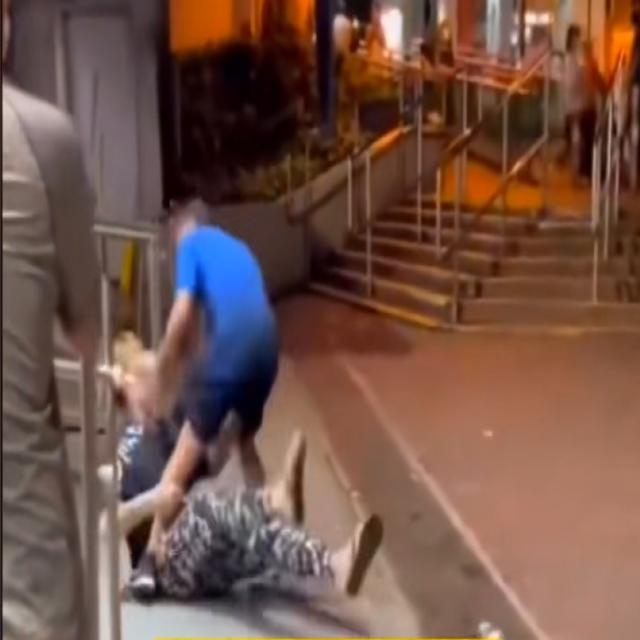fight: (111, 196, 384, 615)
nofight: (1, 3, 104, 623)
